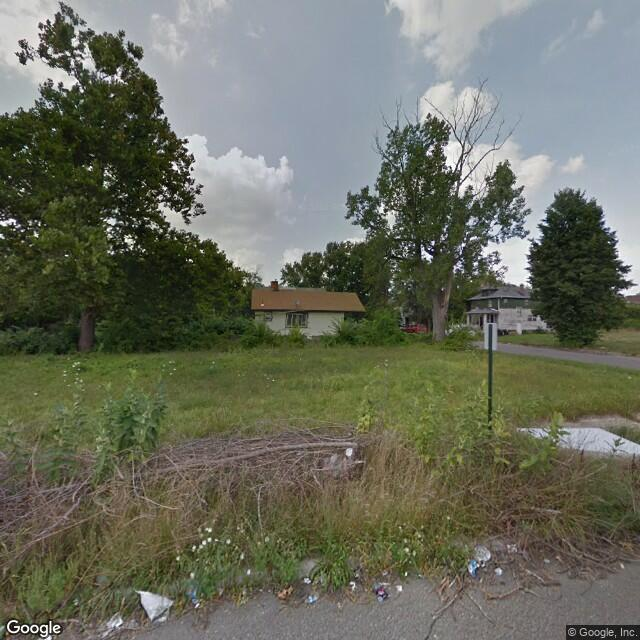litter: (134, 588, 175, 625), (182, 579, 208, 606), (101, 613, 124, 637), (370, 586, 394, 603), (463, 558, 481, 577), (474, 541, 490, 560), (305, 593, 320, 608), (303, 573, 313, 587), (494, 563, 503, 578), (349, 578, 357, 590), (398, 581, 402, 592)
